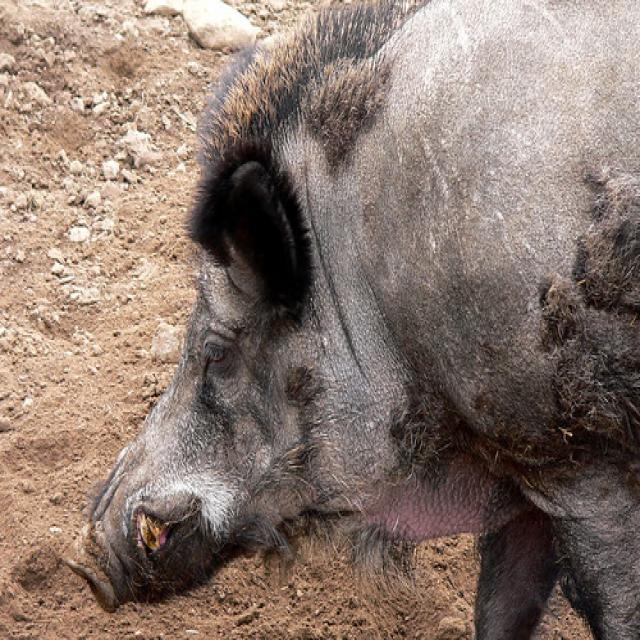boar: (56, 0, 640, 640)
